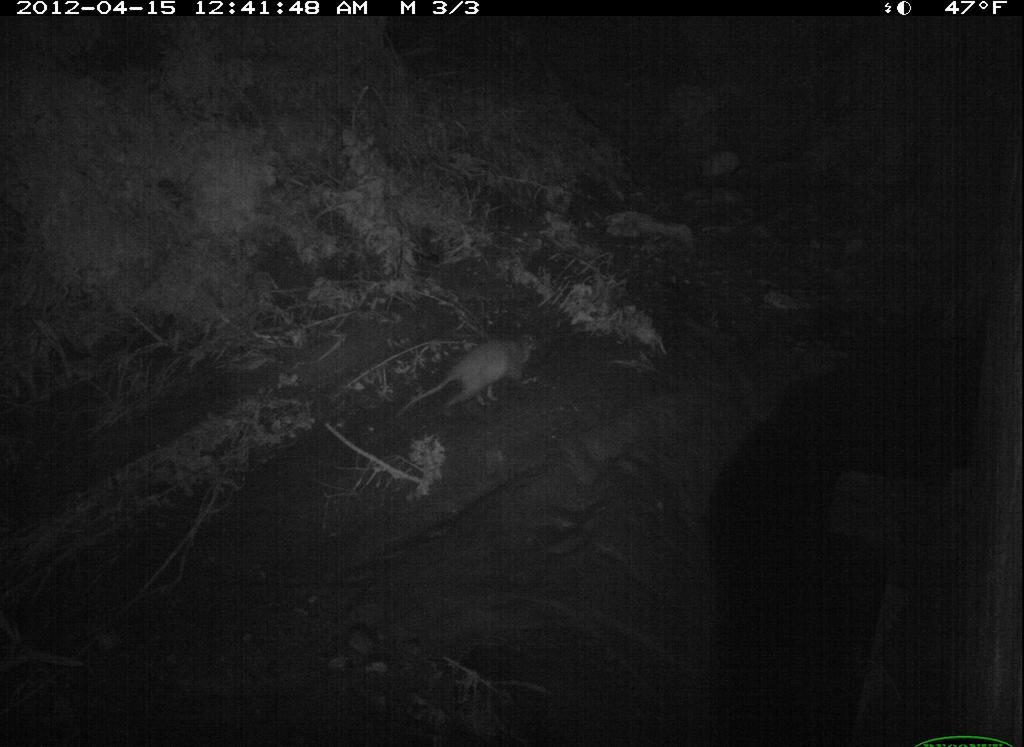opossum: (400, 332, 546, 427)
